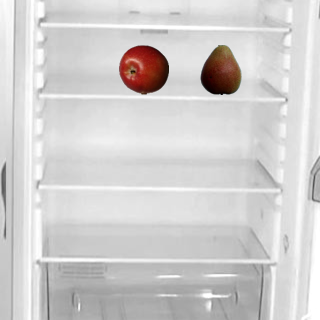Apple Braeburn: (118, 44, 168, 94)
Pear Forelle: (195, 44, 245, 94)
